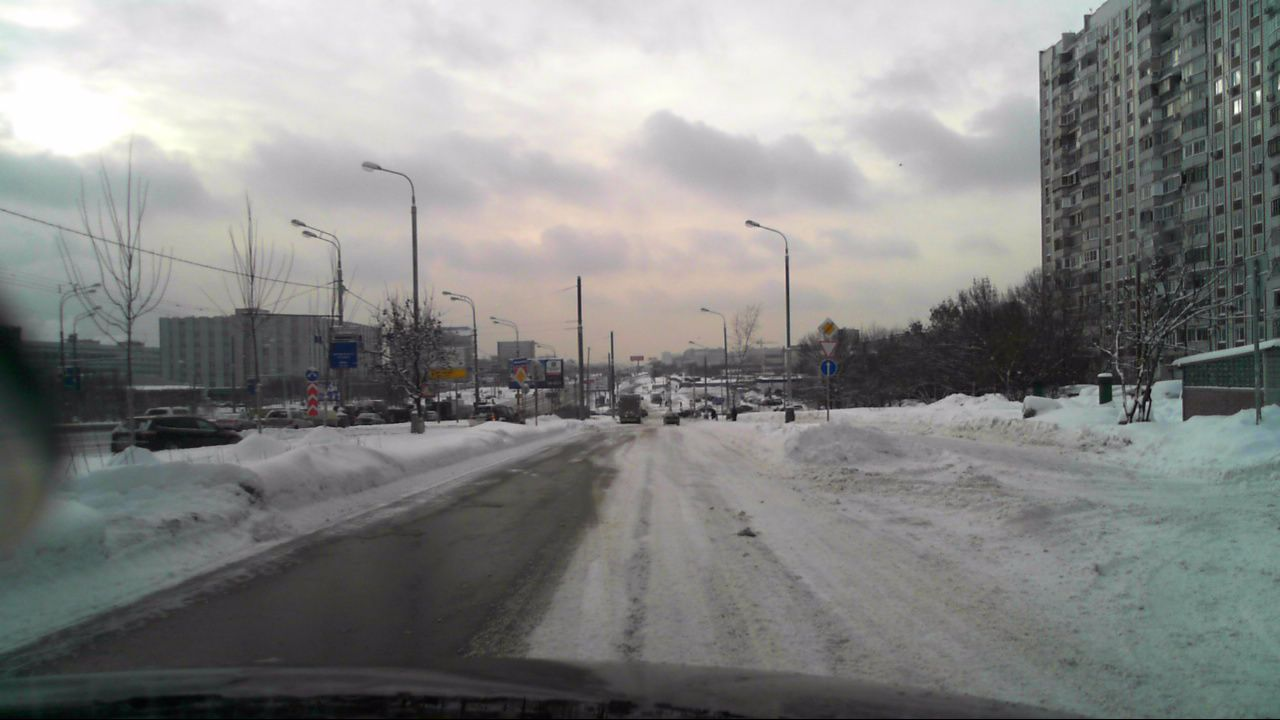main road: (817, 316, 840, 339)
